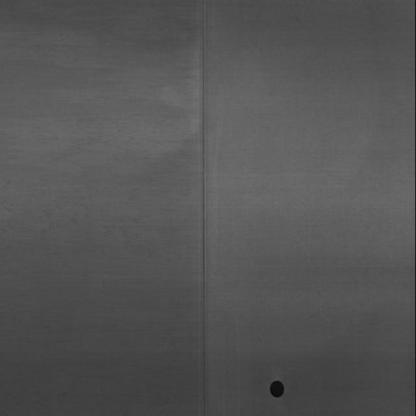punching_hole: (264, 378, 290, 400)
welding_line: (187, 7, 218, 414)
